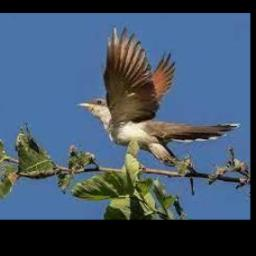Cuckoo: (76, 23, 240, 164)
